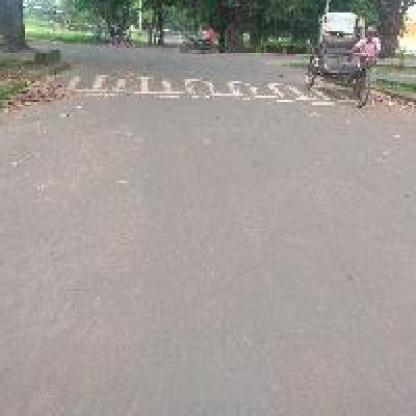Speed Bump: (62, 65, 308, 106)
